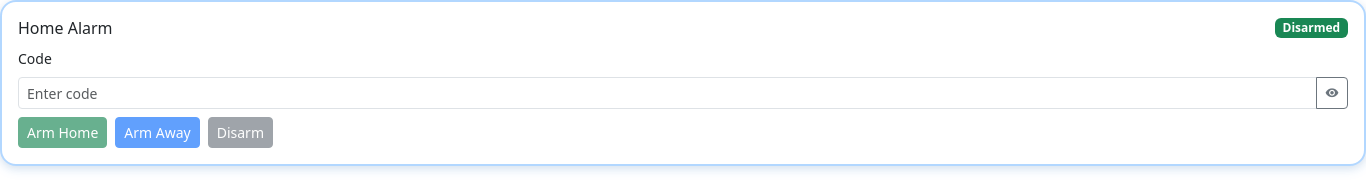
HaAlarmPanel.vue › should enable arm buttons when code is entered and state is disarmed
Step 1. Type "1234" into the password field with id "alarm-code" → (668, 93), box [18, 77, 1317, 109]
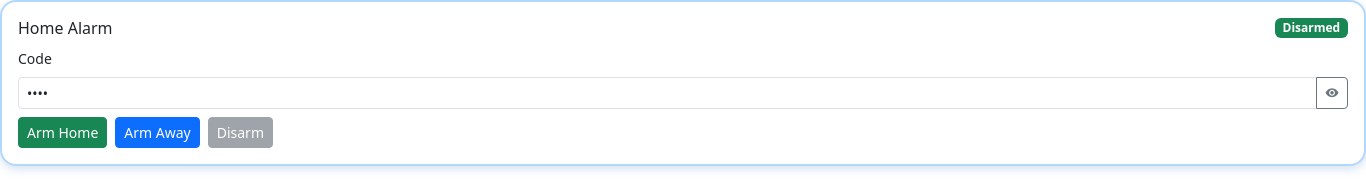
Result: the button "Arm Home" is enabled at [18, 117, 107, 148]
Result: the button "Arm Away" is enabled at [115, 117, 200, 148]
